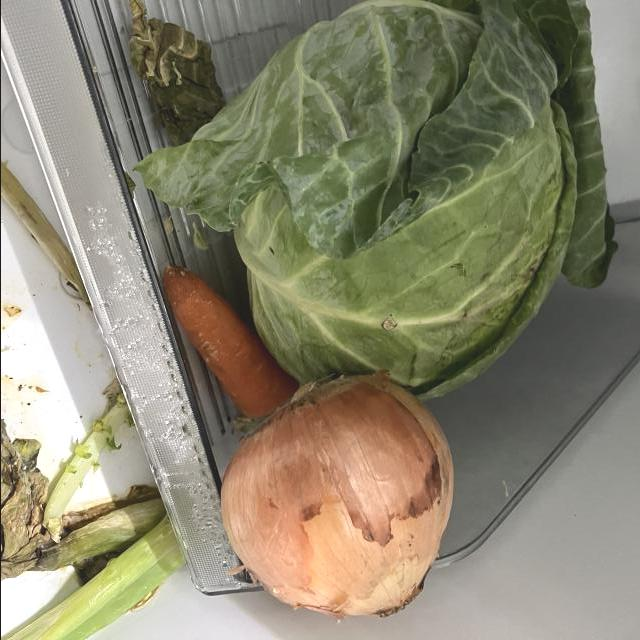cabbage: (135, 1, 622, 407)
carrot: (158, 265, 298, 417)
onion: (215, 375, 455, 617)
